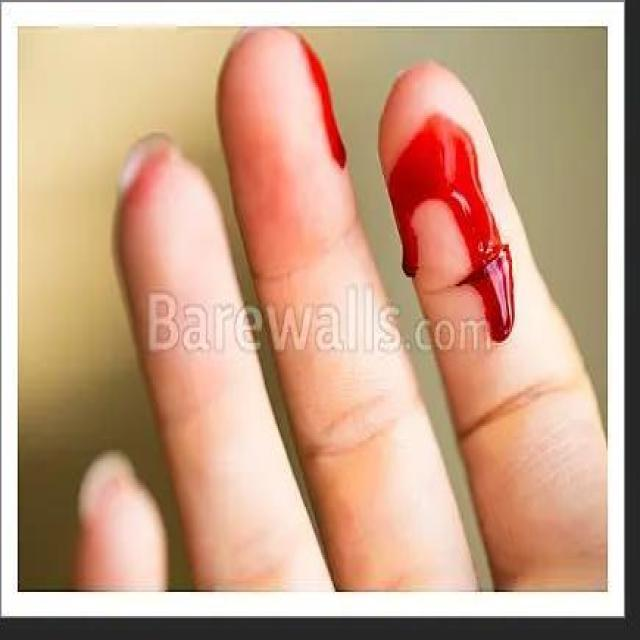flood: (439, 131, 518, 345)
